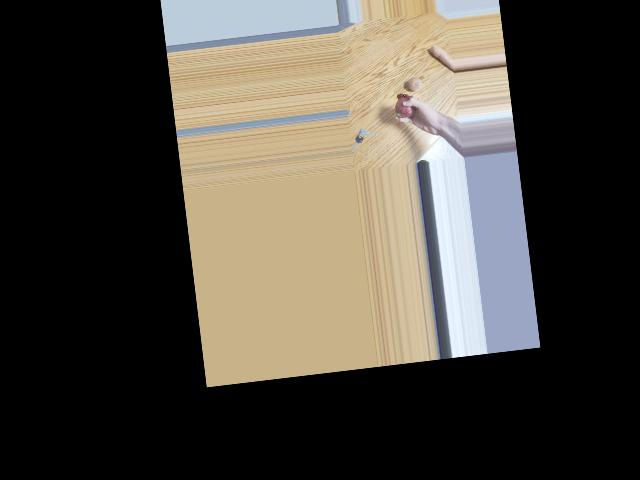onion: (406, 74, 426, 97)
